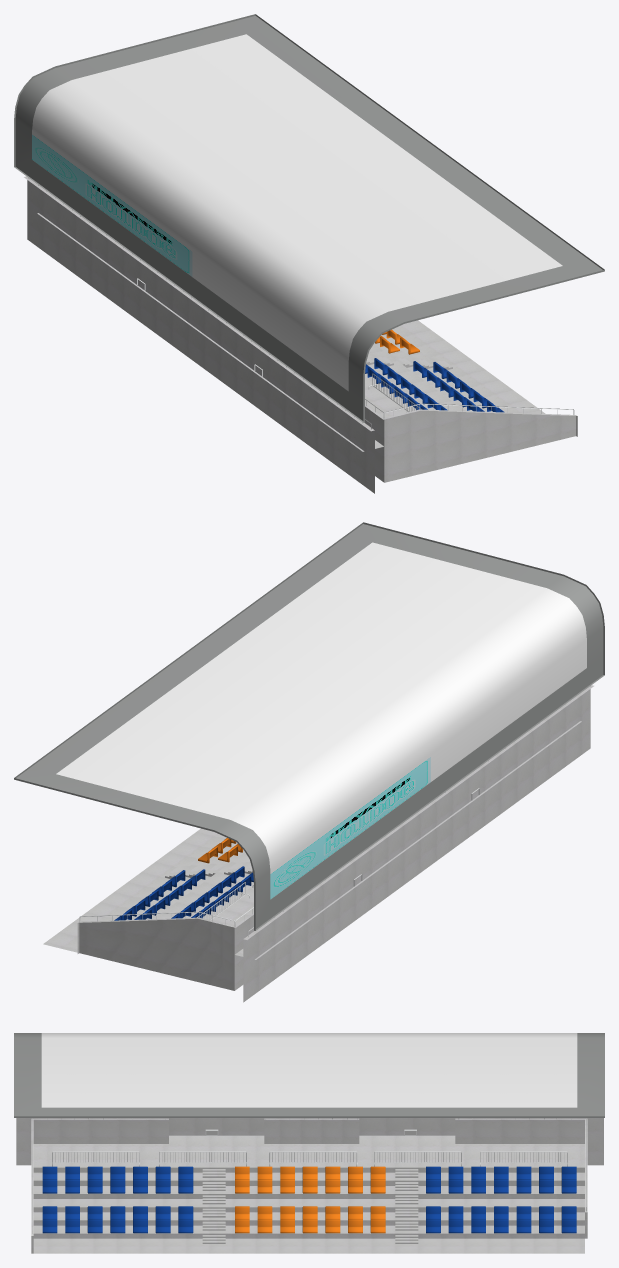
Rendered from M_Dguanzhongtai01.FBX.
3 views of the same model, one above another, from view 1: azimuth 30°, elevation 25°; view 2: azimuth 150°, elevation 25°; view 3: azimuth 270°, elevation 25° (orthographic). The views are drawn at different scales.
Visible parts, largest first — view 1: M_Dguanzhongtai01_04, M_Dguanzhongtai01_01, M_Dguanzhongtai01_03, M_Dguanzhongtai01_02; view 2: M_Dguanzhongtai01_04, M_Dguanzhongtai01_01, M_Dguanzhongtai01_03, M_Dguanzhongtai01_02; view 3: M_Dguanzhongtai01_01, M_Dguanzhongtai01_04, M_Dguanzhongtai01_02, M_Dguanzhongtai01_03.
Boxes of the visible parts, box(x1,y1,x2,y2) form: M_Dguanzhongtai01_04: box(32, 34, 562, 391); M_Dguanzhongtai01_01: box(24, 176, 577, 493); M_Dguanzhongtai01_03: box(14, 14, 604, 429); M_Dguanzhongtai01_02: box(137, 278, 504, 412); M_Dguanzhongtai01_04: box(56, 542, 586, 899); M_Dguanzhongtai01_01: box(43, 685, 593, 1002); M_Dguanzhongtai01_03: box(14, 522, 604, 936); M_Dguanzhongtai01_02: box(114, 788, 479, 920); M_Dguanzhongtai01_01: box(16, 1118, 603, 1253); M_Dguanzhongtai01_04: box(41, 1033, 577, 1107); M_Dguanzhongtai01_02: box(42, 1129, 576, 1233); M_Dguanzhongtai01_03: box(14, 1033, 604, 1233).
Size of the model in its own units: 14.66 by 9.9 by 36.71.
